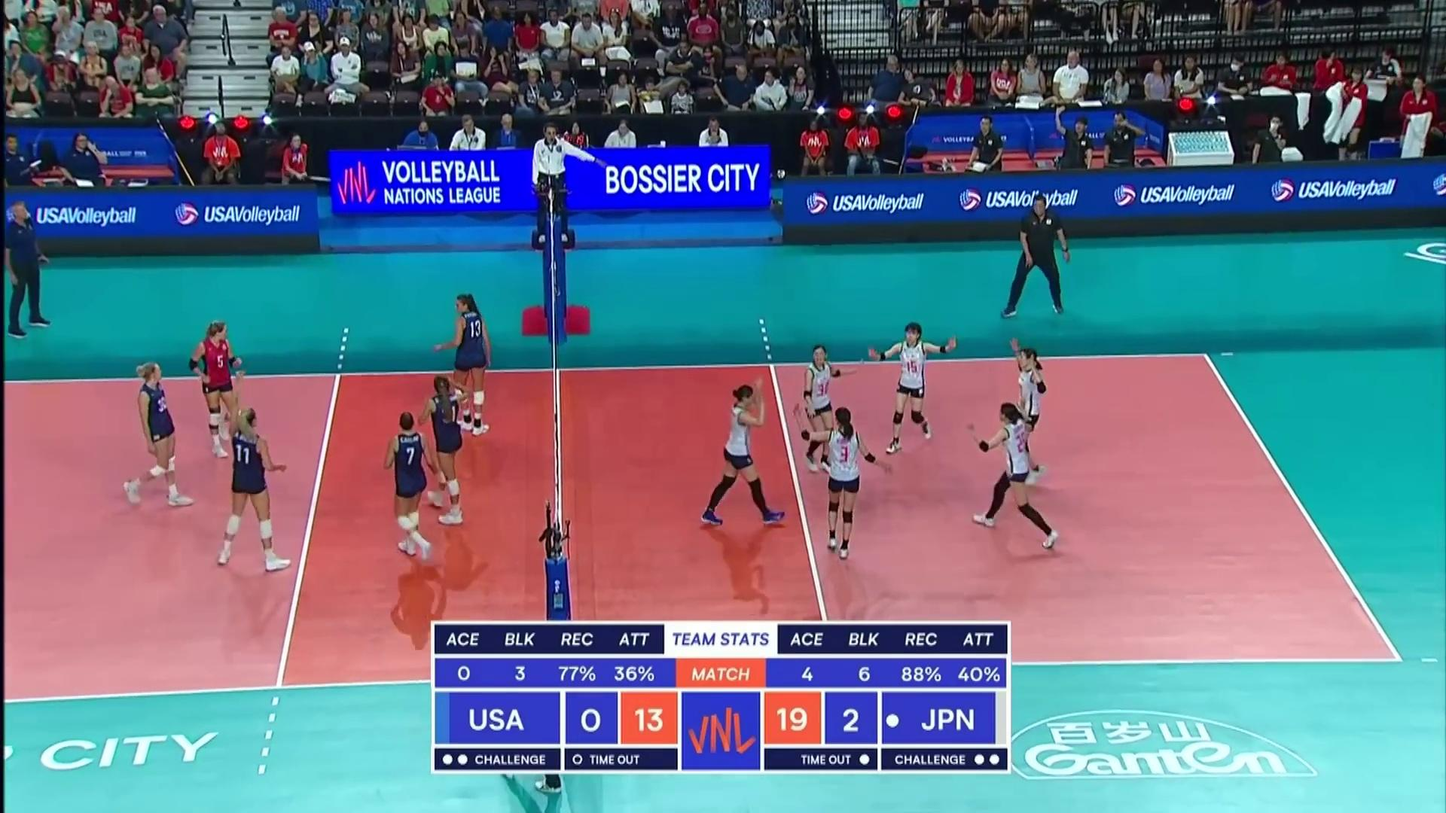player: (971, 402, 1061, 552), (216, 406, 295, 572), (800, 406, 883, 562), (699, 382, 784, 523), (125, 363, 191, 508), (876, 323, 948, 453), (418, 374, 473, 527), (435, 295, 496, 431), (383, 414, 434, 557), (191, 321, 242, 456), (805, 346, 859, 468), (1008, 340, 1048, 485)
refree: (530, 124, 598, 243)
